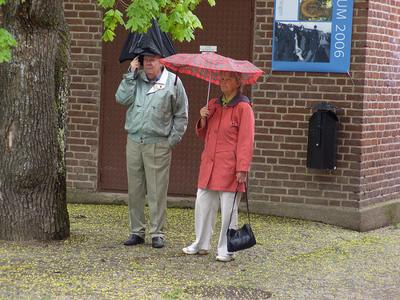person: (182, 70, 256, 262)
